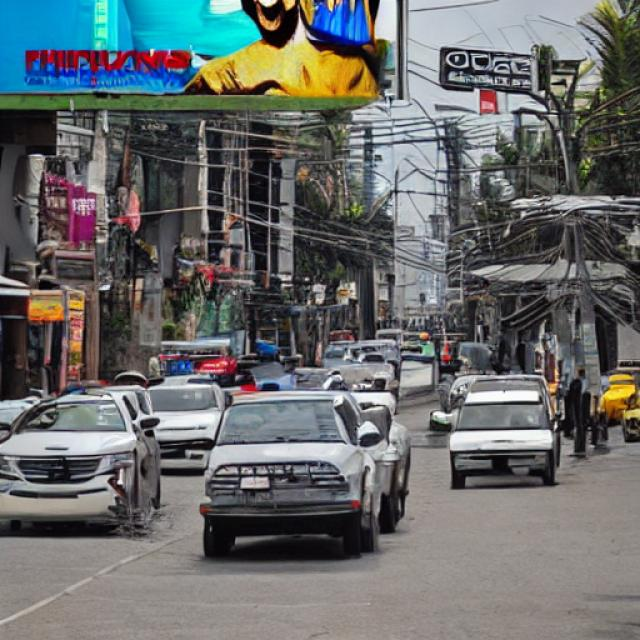Billboard: (0, 0, 408, 105)
